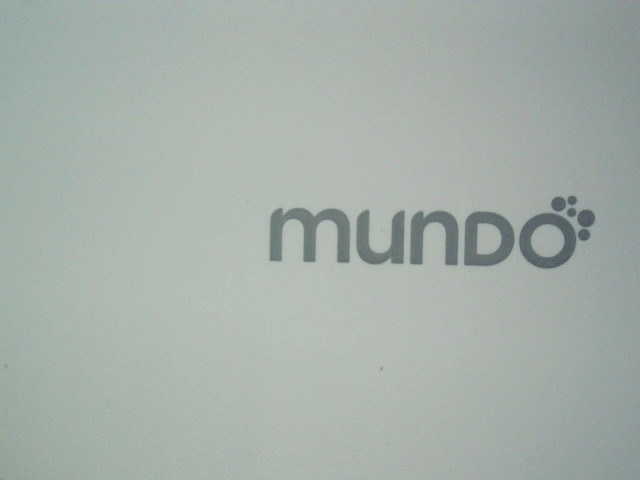BI_MUNDO: (255, 181, 610, 277)
